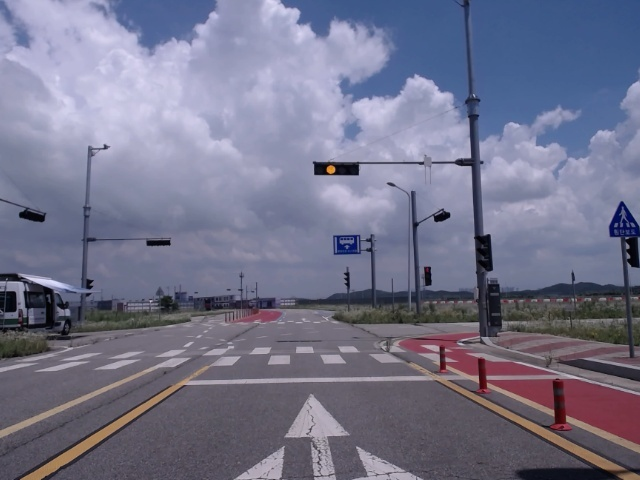orange_4: (312, 160, 360, 176)
